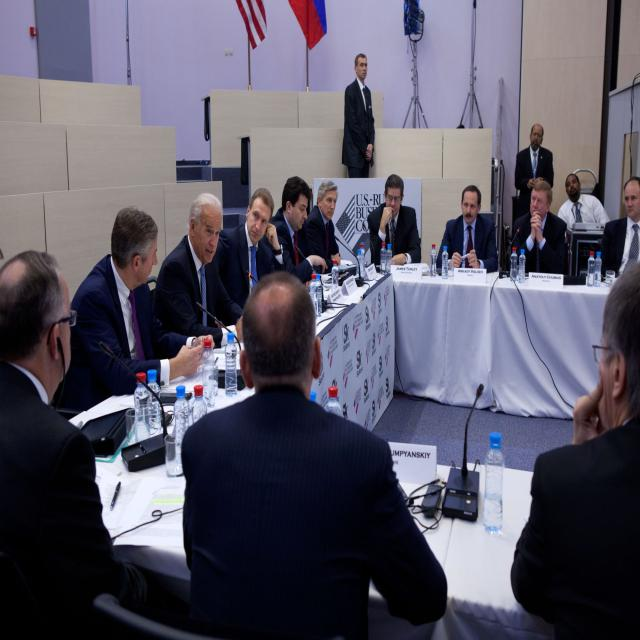body: (175, 267, 456, 639), (506, 252, 640, 640), (0, 247, 118, 640), (52, 203, 206, 421), (151, 191, 246, 353), (216, 187, 286, 322), (268, 175, 328, 288), (510, 179, 568, 286), (435, 183, 499, 278), (366, 173, 422, 266), (597, 175, 640, 283), (342, 52, 376, 178), (297, 179, 341, 274), (514, 122, 554, 220), (557, 173, 610, 228)
